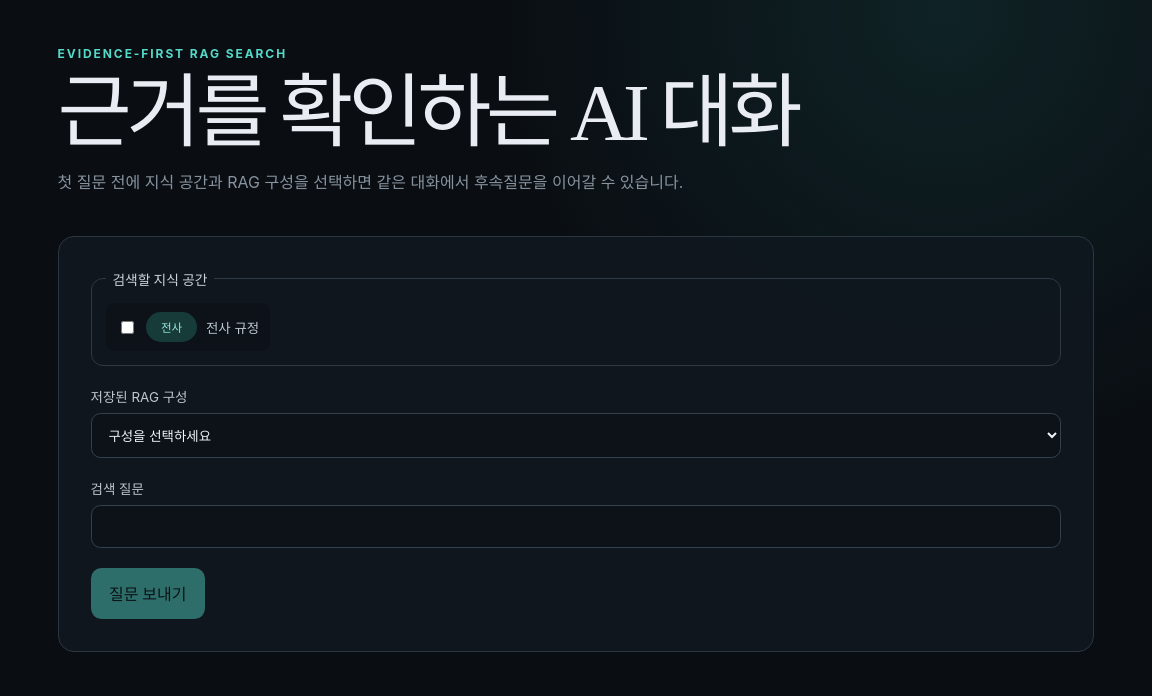
Test case: SearchPage › sends signed prior turns for a contextual follow-up and keeps both turns visible
Click the checkbox labelled "전사 전사 규정". click: (128,327)
box: [121,320,134,334]
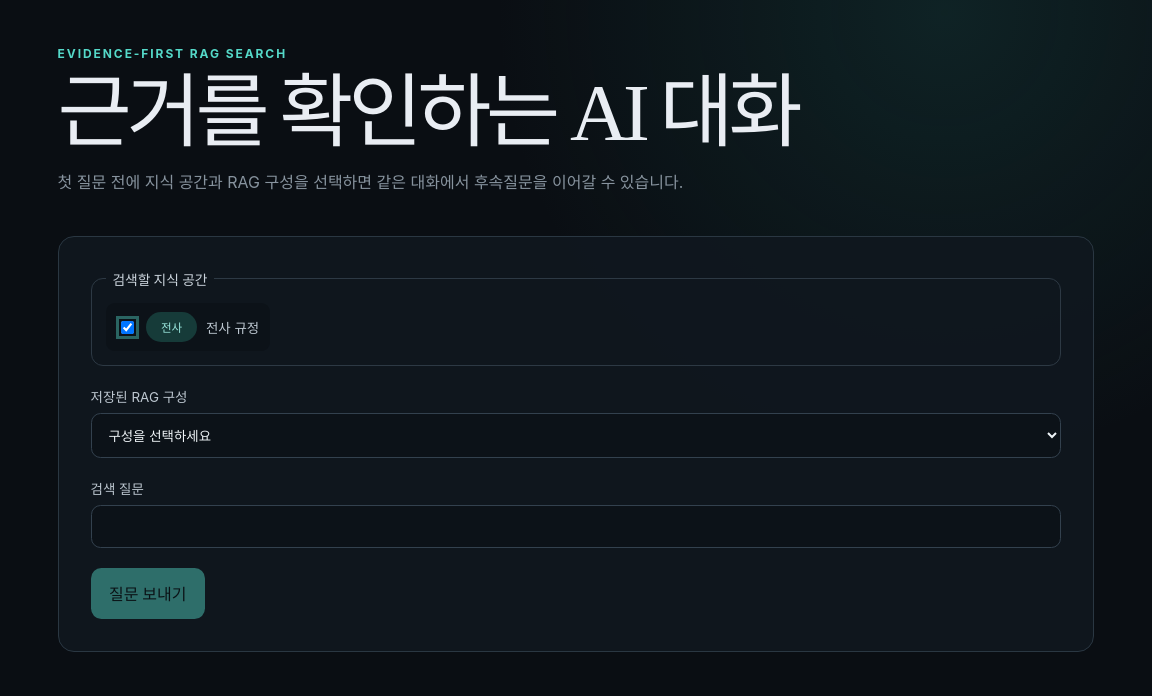
Select "승인된 하이브리드 v3" in the dropdown labelled "저장된 RAG 구성". click: (576,436)
box: [91,413,1061,458]
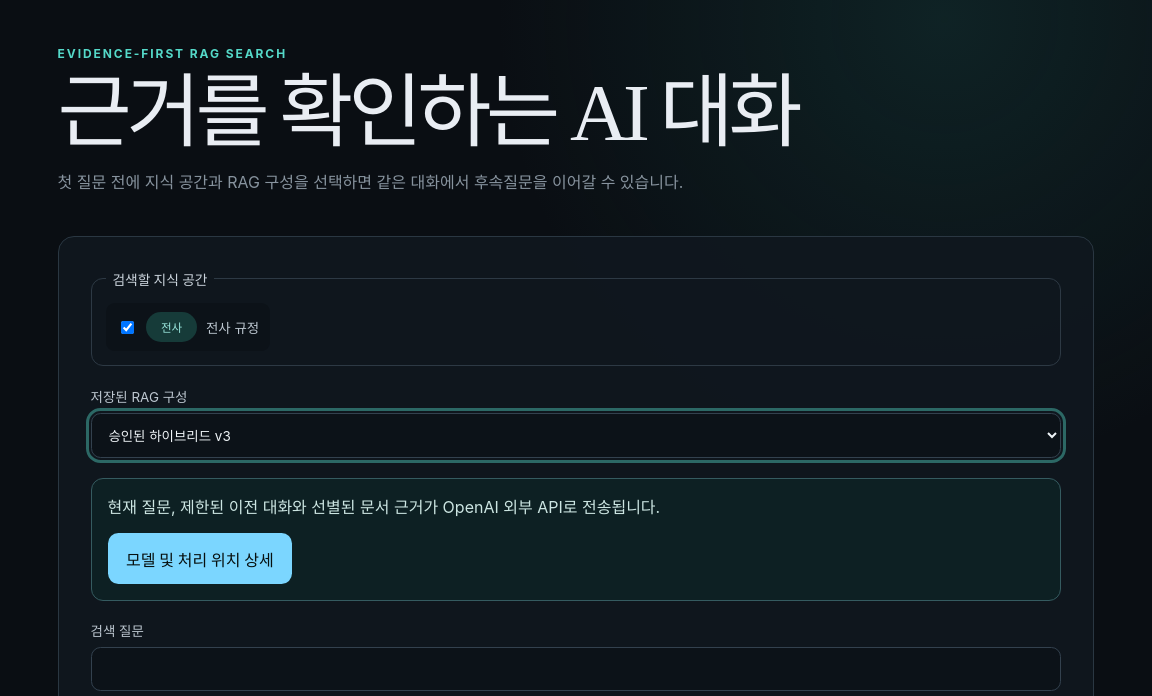
Type "위험 한도는 얼마야?" into the search field labelled "검색 질문". click: (576,669)
box: [91,648,1061,691]
(page scrolled)
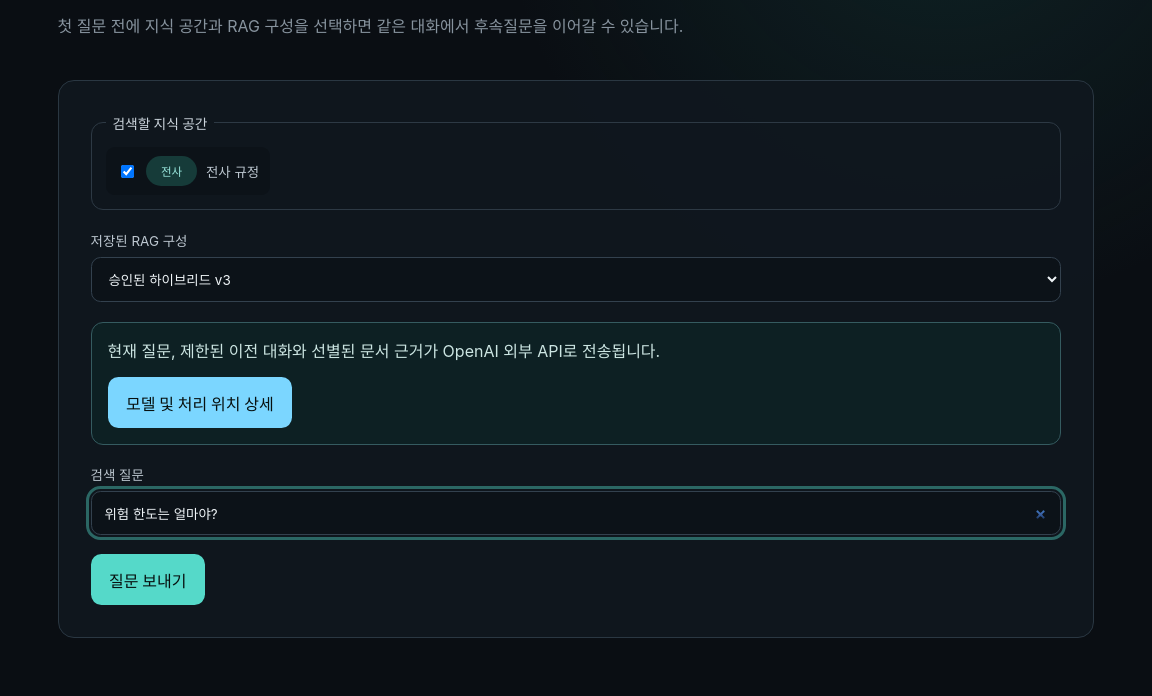
Click the button "질문 보내기". click: (148,580)
box: [91,554,205,606]
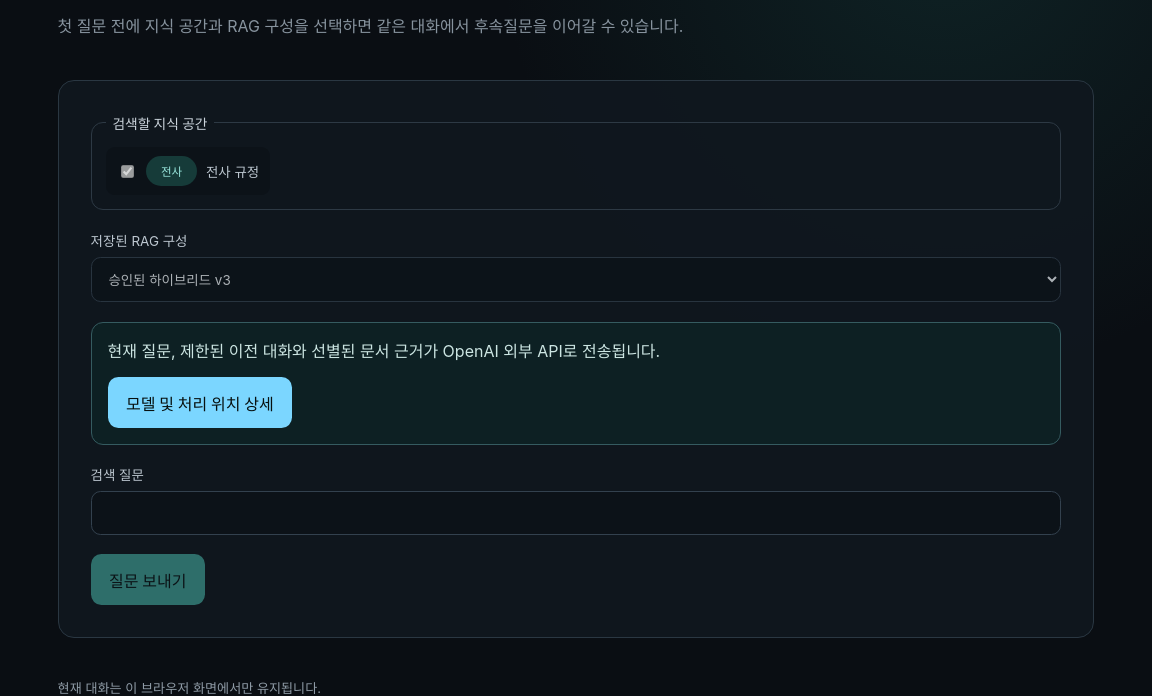
Type "그건 언제부터야?" into the search field labelled "검색 질문". click: (576,513)
box: [91,492,1061,535]
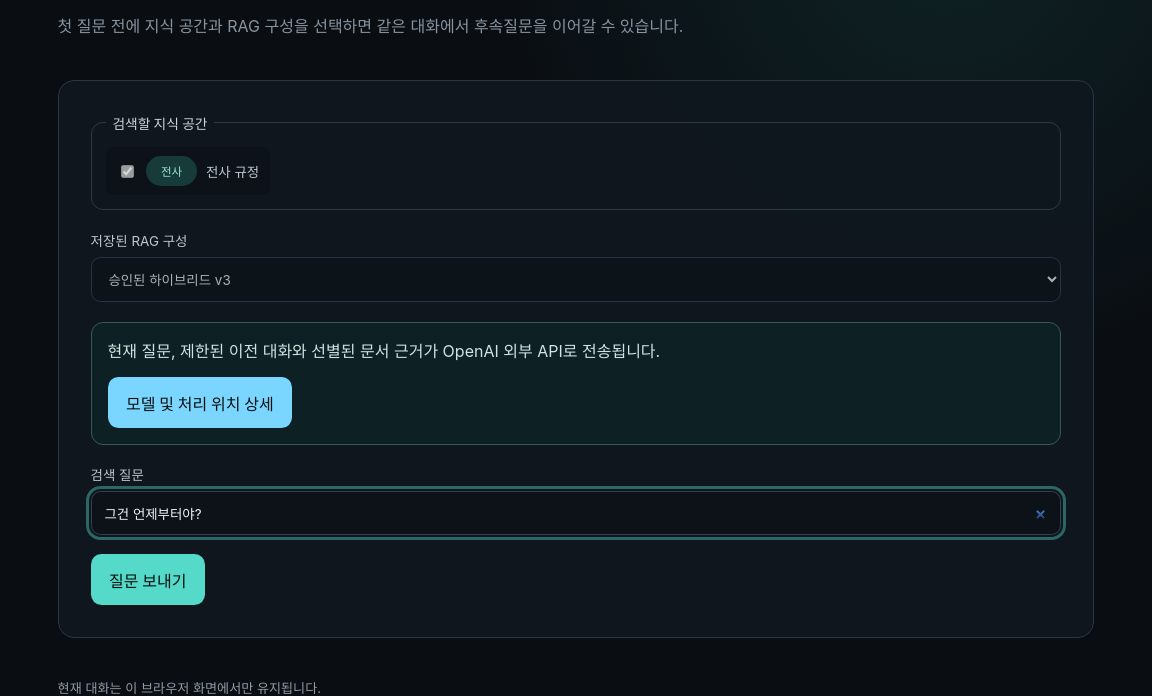
Click the button "질문 보내기". click: (148,580)
box: [91,554,205,606]
(page scrolled)
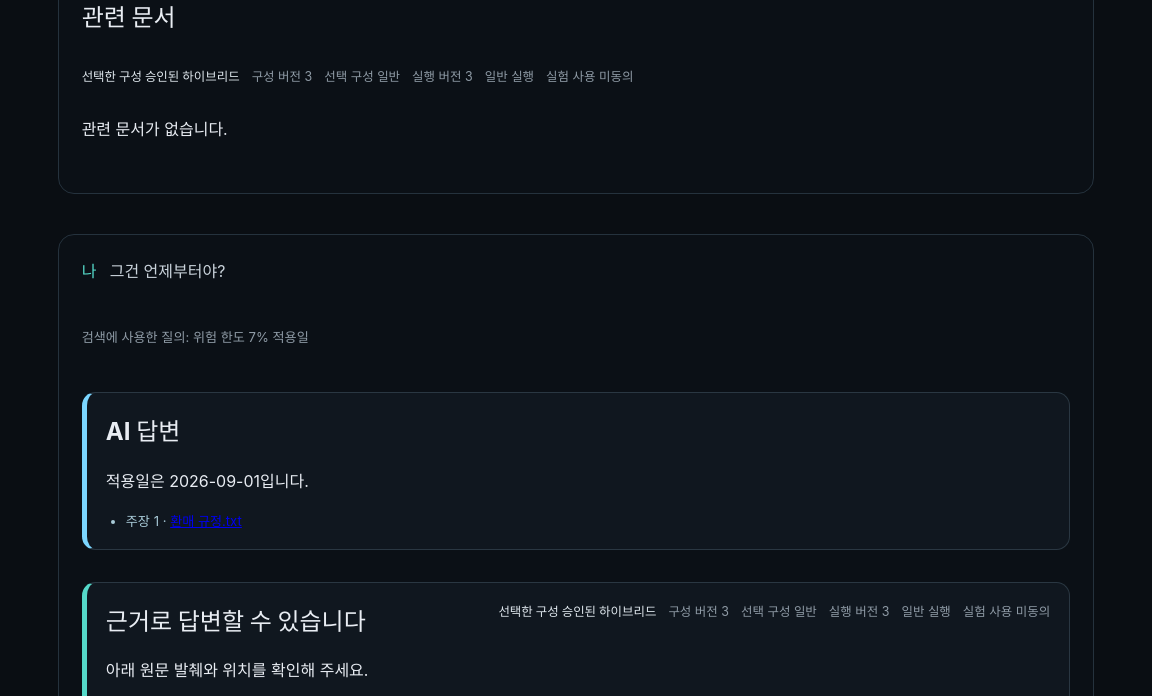
Result: the text "적용일은 2026-09-01입니다." is shown at [106,471,309,491]
Result: the text "그건 언제부터야?" is shown at [110,261,225,281]
Result: the text "검색에 사용한 질의: 위험 한도 7% 적용일" is shown at [82,329,309,345]
